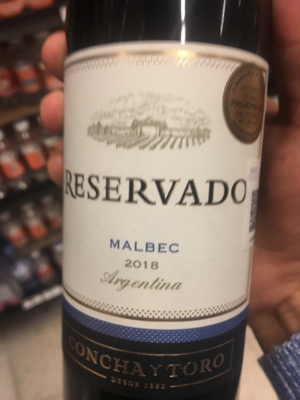reservado malbec: (55, 6, 273, 400)
